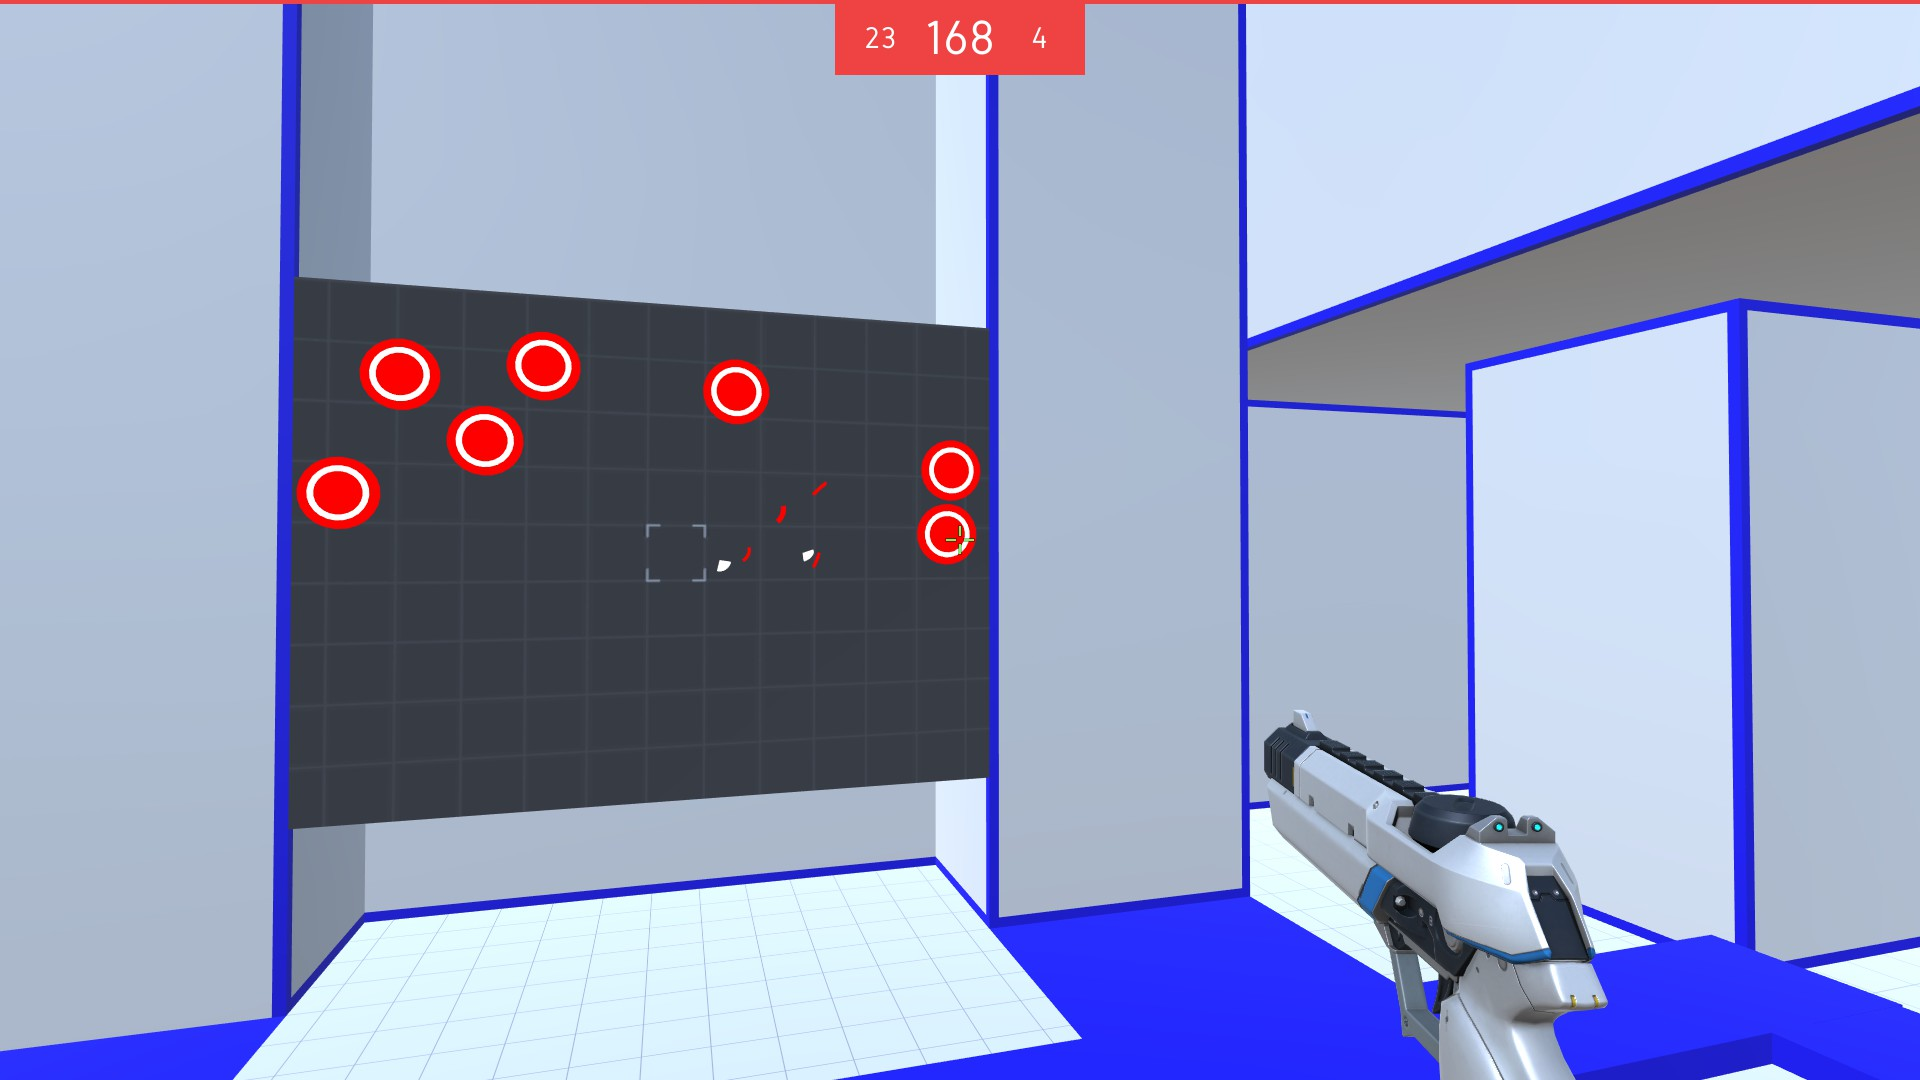target: (293, 454, 386, 533), (357, 338, 444, 415), (442, 407, 533, 477), (505, 332, 582, 404), (699, 356, 771, 430), (913, 501, 978, 567), (918, 439, 984, 498)
